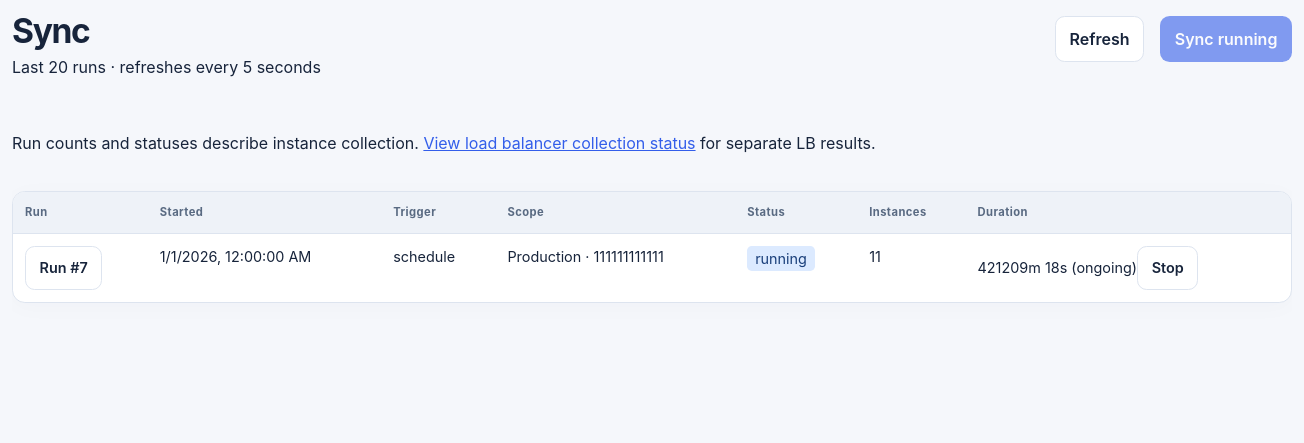
Scenario: scoped scheduled run can be stopped with confirmation and stays stopping until finished
Check: the text "Production · 111111111111" is shown, box top-left (495, 234), bottom-right (735, 302)
Click the button "Stop".
click(1168, 268)  # box top-left (1137, 246), bottom-right (1198, 290)
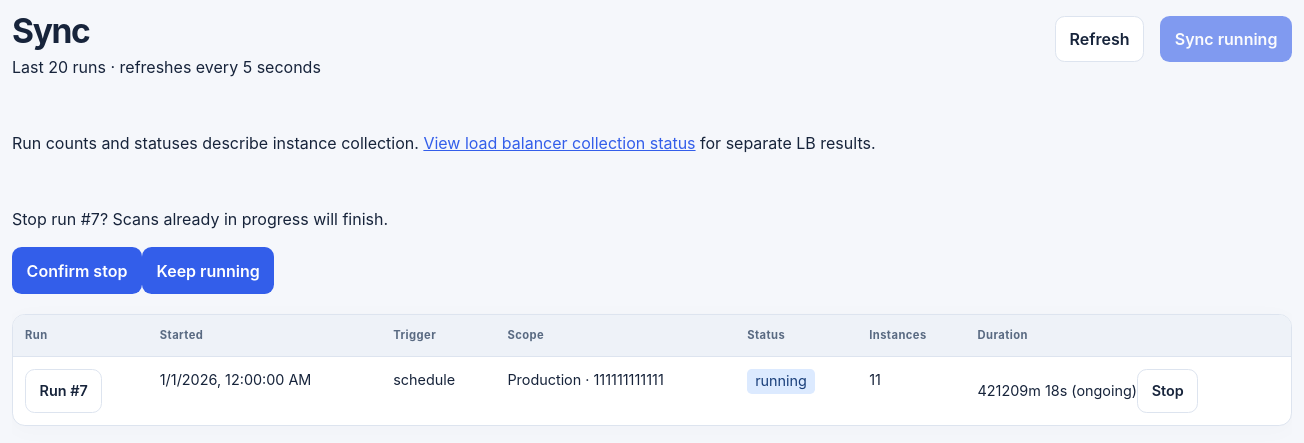
Click the button "Keep running".
click(208, 271)  # box top-left (142, 247), bottom-right (274, 294)
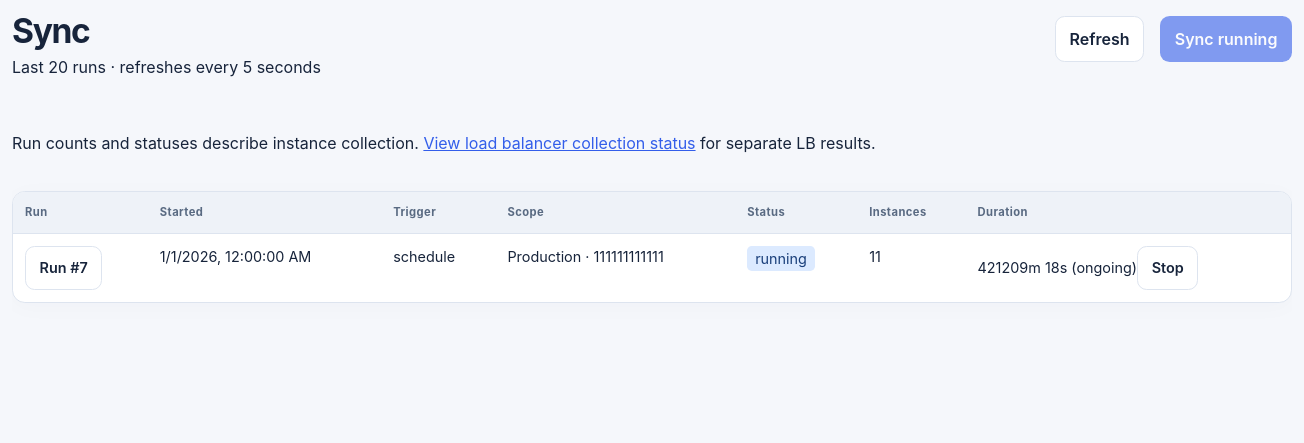
Check: the button "Confirm stop" is gone
Click the button "Stop".
click(1168, 268)  # box top-left (1137, 246), bottom-right (1198, 290)
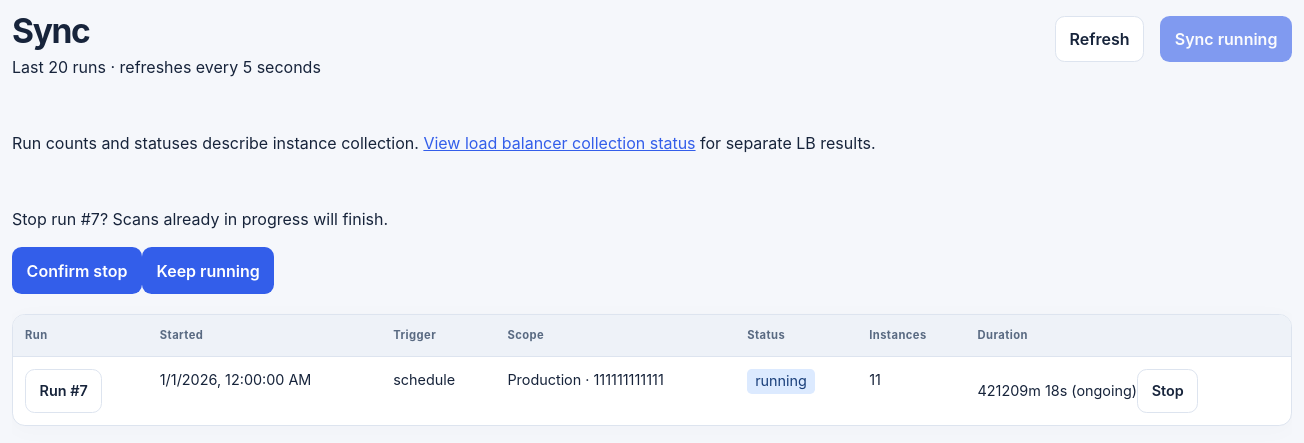
Click the button "Confirm stop".
click(77, 271)  # box top-left (12, 247), bottom-right (142, 294)
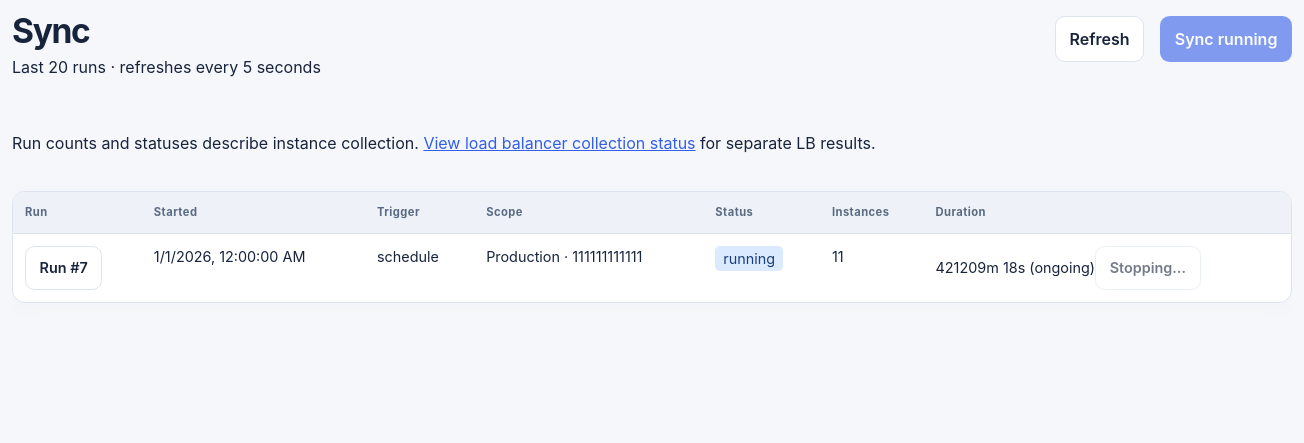
Check: the button "Stopping…" is disabled, box top-left (1095, 246), bottom-right (1201, 290)
